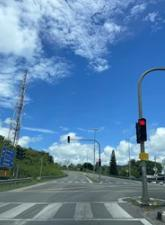red_light: (138, 118, 147, 141)
